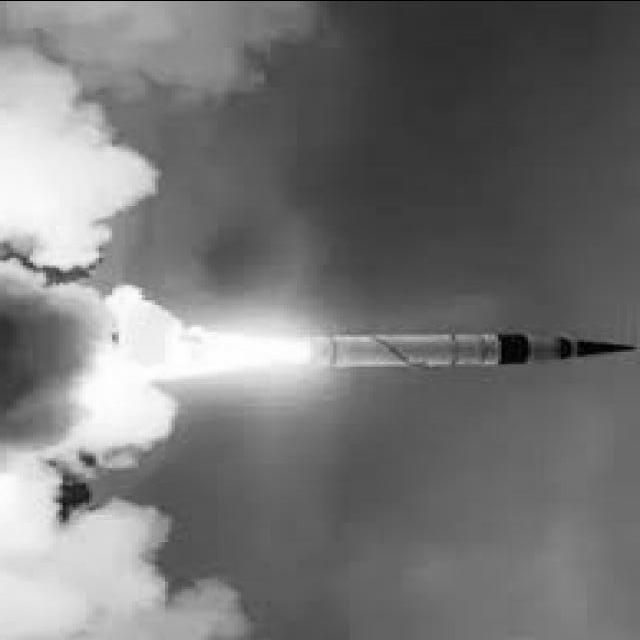Missile: (300, 311, 638, 382)
